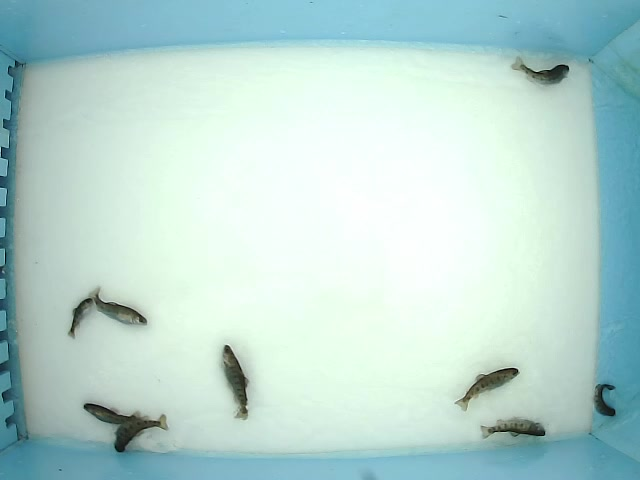fish: (453, 366, 520, 413), (87, 285, 149, 328), (221, 342, 252, 423), (113, 413, 170, 454), (508, 55, 572, 89), (82, 401, 150, 429), (479, 418, 547, 440), (67, 297, 94, 341), (591, 382, 617, 418)
